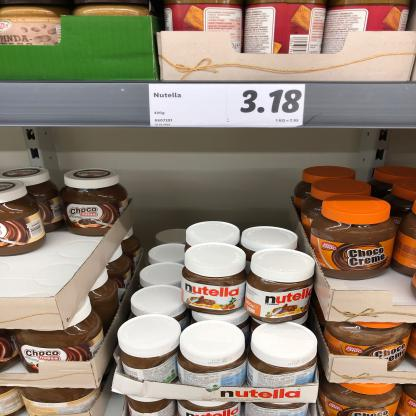prtg: (150, 85, 306, 129)
